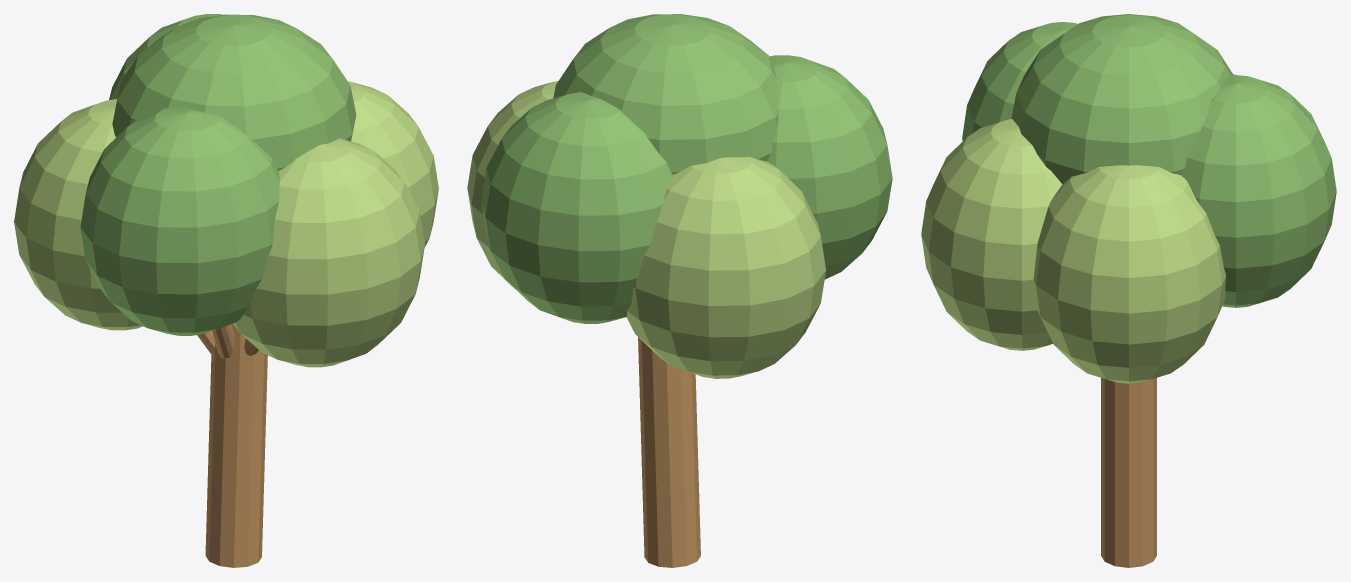
Rendered from SmallTree.fbx.
3 renders of one model, left to right at view 1: azimuth 30°, elevation 25°; view 2: azimuth 150°, elevation 25°; view 3: azimuth 270°, elevation 25°, orthographic.
Parts seen in each view (by area): view 1: Leaf crown.003, Leaf crown.004, Top crown, Leaf crown.002, Trunk, Leaf crown, Leaf crown.001, Branch.003; view 2: Leaf crown.002, Leaf crown.001, Top crown, Leaf crown.003, Trunk, Leaf crown; view 3: Leaf crown, Top crown, Leaf crown.001, Leaf crown.004, Trunk, Leaf crown.003.
Boxes of the visible parts, left/top/right/bottom form: Leaf crown.003: left=80, top=108, right=279, bottom=335; Leaf crown.004: left=233, top=138, right=424, bottom=367; Top crown: left=112, top=14, right=356, bottom=170; Leaf crown.002: left=14, top=99, right=142, bottom=330; Trunk: left=205, top=323, right=267, bottom=567; Leaf crown: left=348, top=81, right=438, bottom=247; Leaf crown.001: left=109, top=14, right=223, bottom=99; Branch.003: left=211, top=324, right=234, bottom=358; Leaf crown.002: left=626, top=157, right=826, bottom=378; Leaf crown.001: left=481, top=92, right=672, bottom=323; Top crown: left=553, top=14, right=778, bottom=174; Leaf crown.003: left=767, top=55, right=892, bottom=279; Trunk: left=638, top=337, right=700, bottom=567; Leaf crown: left=467, top=81, right=558, bottom=288; Leaf crown: left=1033, top=165, right=1226, bottom=383; Top crown: left=1011, top=14, right=1233, bottom=183; Leaf crown.001: left=1181, top=75, right=1336, bottom=307; Leaf crown.004: left=921, top=119, right=1062, bottom=350; Trunk: left=1101, top=378, right=1156, bottom=567; Leaf crown.003: left=962, top=22, right=1077, bottom=140.
Bounding box in the file's own units: 143 × 197 × 140.
